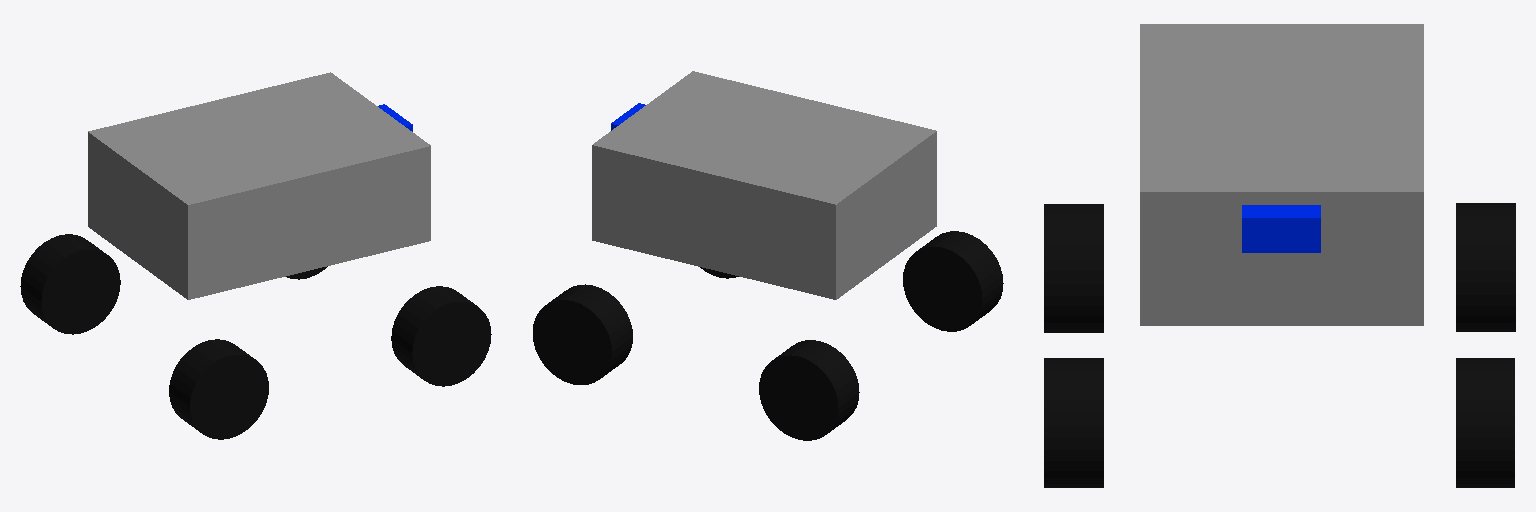
URDF robot description (rover_description):
<?xml version="1.0" encoding="utf-8"?>

<robot name="rover_description">
  
  <!-- base body -->
  <link name="base_footprint" />

  <link name="base_link">
    <inertial>
      <origin
        xyz="-0.149084845881408 3.09150923927665E-05 -0.291336603762016"
        rpy="0 0 0" />
      <mass
        value="18.186723515946" />
      <inertia
        ixx="0.174935677420802"
        ixy="0"
        ixz="-0.00114013594122216"
        iyy="1.42229842100732"
        iyz="0"
        izz="1.31547459275806" />
    </inertial>

    <visual>
      <origin xyz="0 0 0" rpy="0 0 0" />
      <!-- <geometry>
        <mesh filename="file://$(arg rover_path)/meshes/robot_base.stl" />
      </geometry> -->
      <geometry>
        <box size="0.804 0.576 0.3" />
      </geometry>

      <material name="">
        <color rgba="0.6 0.6 0.6 1.0" />
      </material>
    </visual>

    <visual name="front_marker">
      <origin xyz="0.43 0 0.08" rpy="0 0 0" />
      <geometry>
        <box size="0.06 0.16 0.08" />
      </geometry>
      <material name="front_blue">
        <color rgba="0.0 0.2 1.0 1.0" />
      </material>
    </visual>
    
    <collision>
      <origin xyz="0 0 0" rpy="0 0 0" />
      <geometry>
        <box size="0.804 0.576 0.3" />
      </geometry>
    </collision>
  </link>

  <joint name="base_footprint_joint" type="fixed">
    <parent link="base_footprint"/>
    <child link="base_link"/>
    <origin xyz="0 0 .52019" rpy="0 0 0"/>
  </joint>

  <!-- Front right Wheel -->
  <link name="FR_wheel">
    <inertial>
      <origin
        xyz="0 0.05 0"
        rpy="0 0 0" />
      <mass
        value="0.95177" />
      <inertia
        ixx="0.0033805"
        ixy="0"
        ixz="0"
        iyy="0.0038955"
        iyz="0"
        izz="0.0033805" />
    </inertial>
    <visual>
      <origin
        xyz="0 0 0"
        rpy="1.570796 0 0" />
        <!-- rpy="0 0 0" /> -->
      <!-- <geometry>
        <mesh
          filename="file://$(arg rover_path)/meshes/right_wheel.stl" />
      </geometry> -->
      <geometry>
        <cylinder radius="0.131" length="0.12" />
      </geometry>

      <material name="wheel_blue">
        <color rgba="0.1 0.1 0.1 1.0" />
      </material>
    </visual>
    <collision>
      <origin
        xyz="0 0 0"
        rpy="1.570796 0 0" />
      <geometry>
        <cylinder radius="0.131" length="0.12" />
      </geometry>
    </collision>
  </link>
  <joint name="FR_joint" type="continuous">
    <origin
      xyz="0.357788 -0.421409 -0.387336"
      rpy="0 0 0" />
    <parent link="base_link" />
    <child link="FR_wheel" />
    <axis xyz="0 1 0" />
    <limit
      effort="20"
      velocity="20" />
  </joint>

  <!-- Back right Wheel -->
  <link name="BR_wheel">
    <inertial>
      <origin
        xyz="0 0.05 0"
        rpy="0 0 0" />
      <mass
        value="0.95177" />
      <inertia
        ixx="0.0033805"
        ixy="0"
        ixz="0"
        iyy="0.0038955"
        iyz="0"
        izz="0.0033805" />
    </inertial>
    <visual>
      <origin
        xyz="0 0 0"
        rpy="1.570796 0 0" />
        <!-- rpy="0 0 0" /> -->
      <!-- <geometry>
        <mesh
          filename="file://$(arg rover_path)/meshes/right_wheel.stl" />
      </geometry> -->
      <geometry>
        <cylinder radius="0.131" length="0.12" />
      </geometry>

      <material name="wheel_blue">
        <color rgba="0.1 0.1 0.1 1.0" />
      </material>
    </visual>
    <collision>
      <origin
        xyz="0 0 0"
        rpy="1.570796 0 0" />
      <geometry>
        <cylinder radius="0.131" length="0.12" />
      </geometry>
    </collision>
  </link>
  <joint name="BR_joint" type="continuous">
    <origin
      xyz="-0.377044 -0.421409 -0.383722"
      rpy="0 0 0" />
    <parent link="base_link" />
    <child link="BR_wheel" />
    <axis xyz="0 1 0" />
    <limit
      effort="20"
      velocity="20" />
  </joint>


  <!-- Front Left Wheel -->
  <link name="FL_wheel">
    <inertial>
      <origin
        xyz="0 0 0"
        rpy="0 0 0" />
      <mass
        value="0.95177" />
      <inertia
        ixx="0.0033805"
        ixy="0"
        ixz="0"
        iyy="0.0038955"
        iyz="0"
        izz="0.0033805" />
    </inertial>
    <visual>
      <origin
        xyz="0 0 0"
        rpy="1.570796 0 0" />
        <!-- rpy="0 0 0" /> -->
      <!-- <geometry>
        <mesh
          filename="file://$(arg rover_path)/meshes/left_wheel.stl" />
      </geometry> -->
      <geometry>
        <cylinder radius="0.131" length="0.12" />
      </geometry>

      <material name="wheel_blue">
        <color rgba="0.1 0.1 0.1 1.0" />
      </material>
    </visual>
    <collision>
      <origin
        xyz="0 0 0"
        rpy="1.570796 0 0" />
      <geometry>
        <cylinder radius="0.131" length="0.12" />
      </geometry>
    </collision>
  </link>
  <joint name="FL_joint" type="continuous">
    <origin
      xyz="0.359424 0.412712 -0.386553"
      rpy="0 0 0" />
    <parent link="base_link" />
    <child link="FL_wheel" />
    <axis xyz="0 1 0" />
    <limit
      effort="20"
      velocity="20" />
  </joint>

  <!-- back Left Wheel -->
  <link name="BL_wheel">
    <inertial>
      <origin
        xyz="0 0 0"
        rpy="0 0 0" />
      <mass
        value="0.95177" />
      <inertia
        ixx="0.0033805"
        ixy="0"
        ixz="0"
        iyy="0.0038955"
        iyz="0"
        izz="0.0033805" />
    </inertial>
    <visual>
      <origin
        xyz="0 0 0"
        rpy="1.570796 0 0" />
        <!-- rpy="0 0 0" /> -->
      <!-- <geometry>
        <mesh
          filename="file://$(arg rover_path)/meshes/left_wheel.stl" />
      </geometry> -->
      <geometry>
        <cylinder radius="0.131" length="0.12" />
      </geometry>

      <material name="wheel_blue">
        <color rgba="0.1 0.1 0.1 1.0" />
      </material>
    </visual>
    <collision>
      <origin
        xyz="0 0 0"
        rpy="1.570796 0 0" />
      <geometry>
        <cylinder radius="0.131" length="0.12" />
      </geometry>
    </collision>
  </link>
  <joint name="BL_joint" type="continuous">
    <origin
      xyz="-0.385612 0.413443 -0.386925"
      rpy="0 0 0" />
    <parent link="base_link" />
    <child link="BL_wheel" />
    <axis xyz="0 1 0" />
    <limit
      effort="20"
      velocity="20" />
  </joint>

</robot>

--- What the picture shows (computed from the rendered views, not written in the file) ---
The picture shows the robot from 3 angles, left to right: view 1: azimuth 30°, elevation 25°; view 2: azimuth 150°, elevation 25°; view 3: azimuth 270°, elevation 25°; orthographic projection.
Robot: rover_description — 6 links, 5 joints (4 continuous, 1 fixed); root link base_footprint; default pose: all joints at 0.
Links seen in each view (by area): view 1: base_link, BR_wheel, BL_wheel, FR_wheel; view 2: base_link, BL_wheel, FL_wheel, BR_wheel; view 3: base_link, FR_wheel, BR_wheel, BL_wheel, FL_wheel.
Link boxes in pixels (box(x1,y1,x2,y2)): base_link: box(88, 72, 430, 299); BR_wheel: box(169, 339, 268, 439); BL_wheel: box(20, 234, 120, 334); FR_wheel: box(391, 286, 491, 386); base_link: box(592, 71, 936, 299); BL_wheel: box(759, 340, 859, 440); FL_wheel: box(533, 284, 632, 384); BR_wheel: box(903, 231, 1003, 331); base_link: box(1140, 24, 1423, 325); FR_wheel: box(1044, 358, 1103, 487); BR_wheel: box(1044, 204, 1103, 332); BL_wheel: box(1456, 203, 1515, 331); FL_wheel: box(1456, 358, 1514, 487).
Size in the robot's own frame: 1.01 by 0.9549 by 0.6683 metres.
Geometry: primitives only (box / cylinder / sphere), no mesh files.
